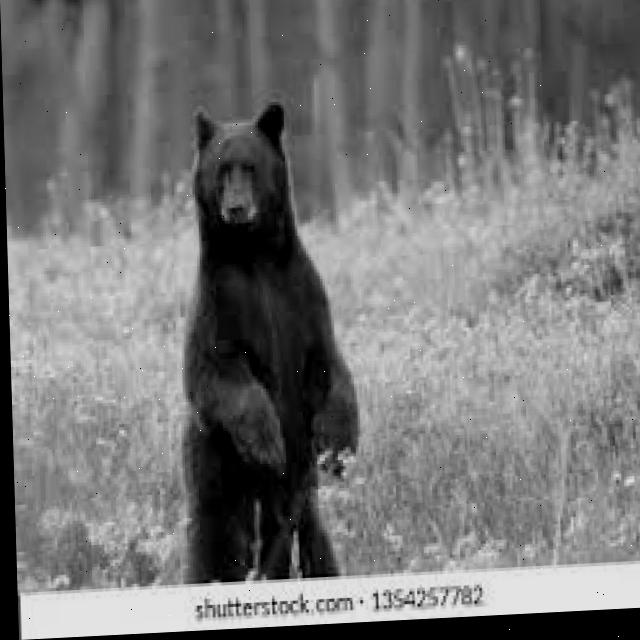Bear: (172, 97, 361, 585)
